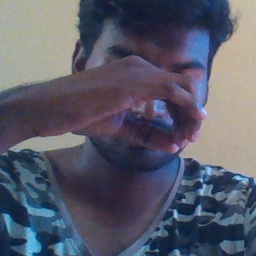O: (59, 53, 214, 166)
